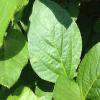Soyabean leaf: (27, 0, 83, 86), (0, 28, 29, 89)
